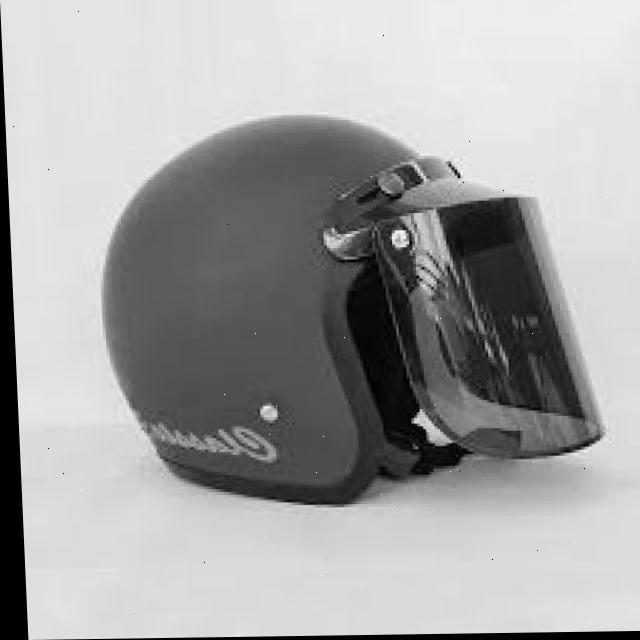Helmet: (88, 111, 605, 512)
